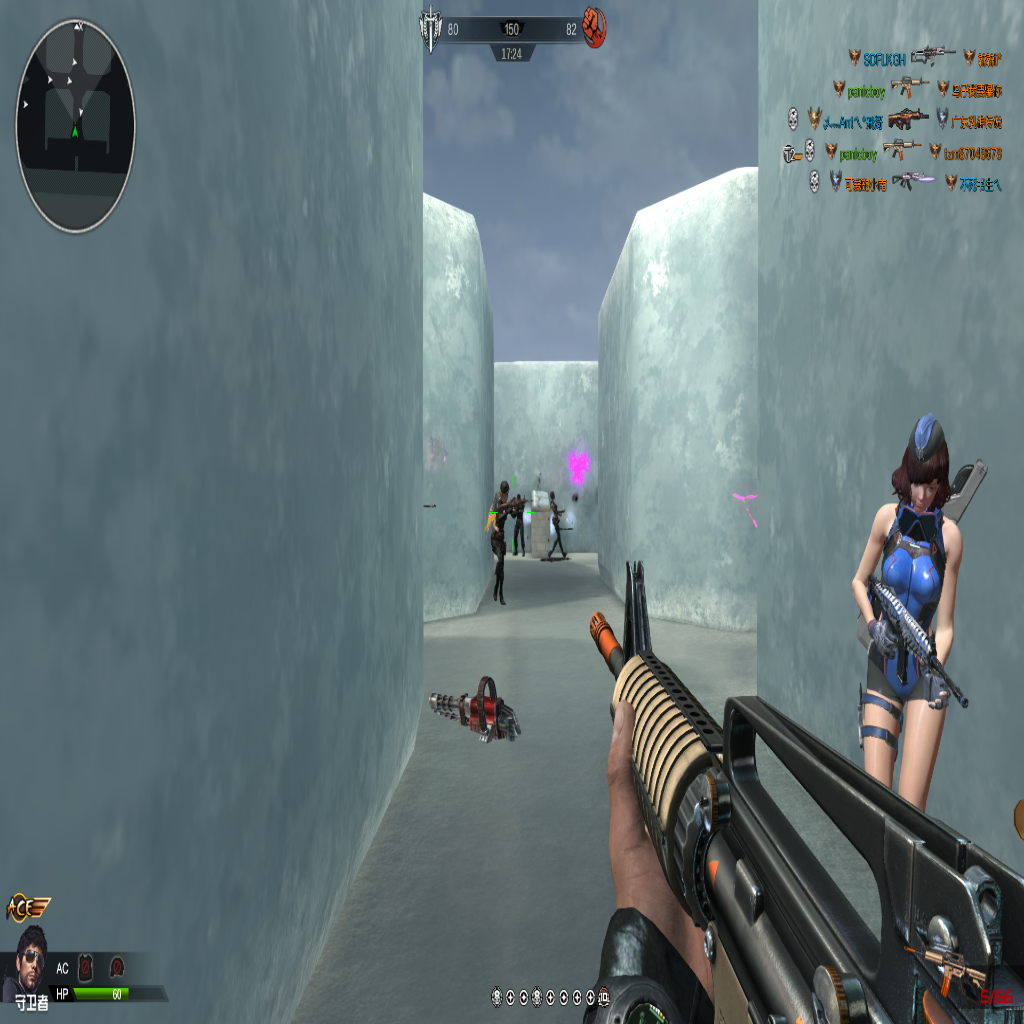ct: (850, 422, 973, 791), (486, 480, 513, 609), (508, 488, 527, 556), (548, 487, 564, 561)
